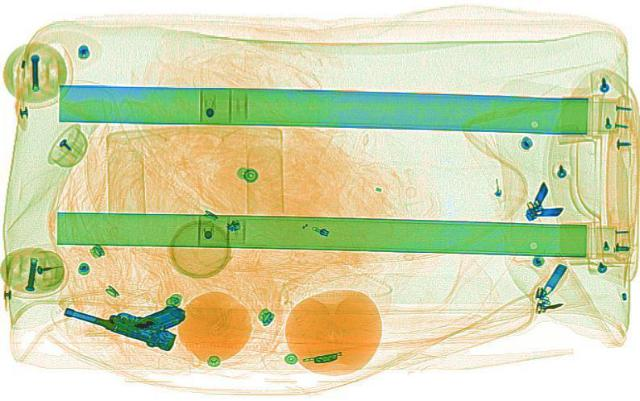Gun: (54, 278, 204, 352)
